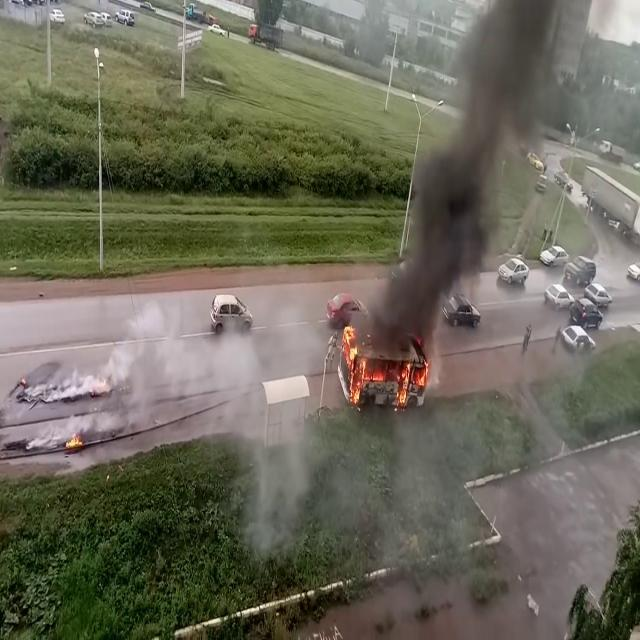Fire: (339, 320, 369, 404), (394, 352, 430, 408), (63, 426, 84, 454)
Smoke: (82, 264, 340, 564), (372, 1, 552, 336)
